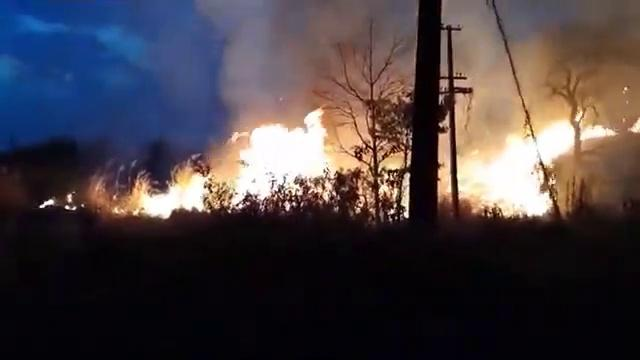fire: (463, 154, 548, 211), (246, 129, 329, 187), (145, 185, 203, 213), (539, 125, 575, 152)
